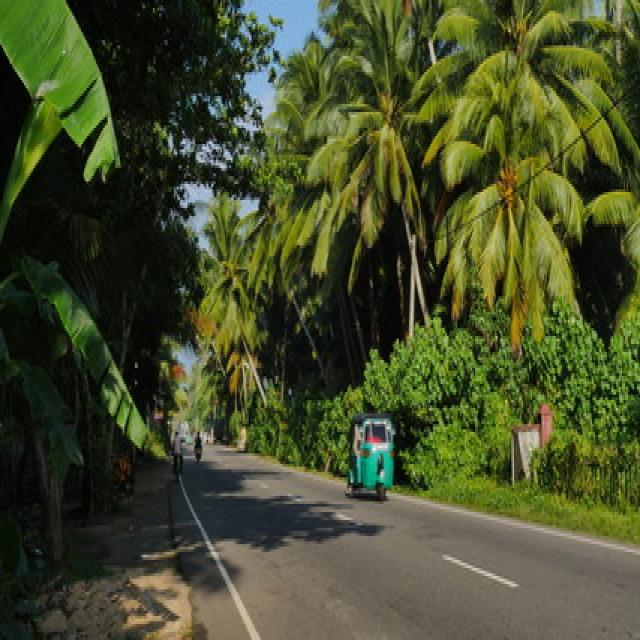three wheeler: (346, 413, 393, 501)
